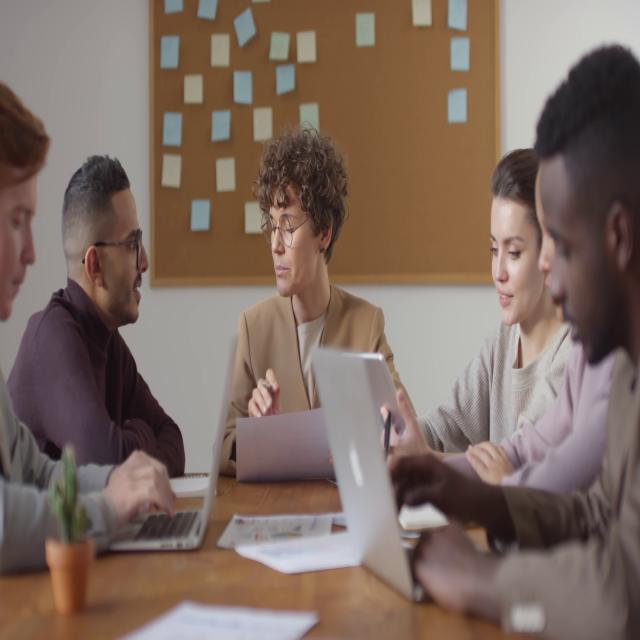not-gloved: (388, 452, 482, 524), (104, 447, 177, 525), (380, 387, 430, 463), (465, 438, 513, 486), (247, 367, 282, 418)
